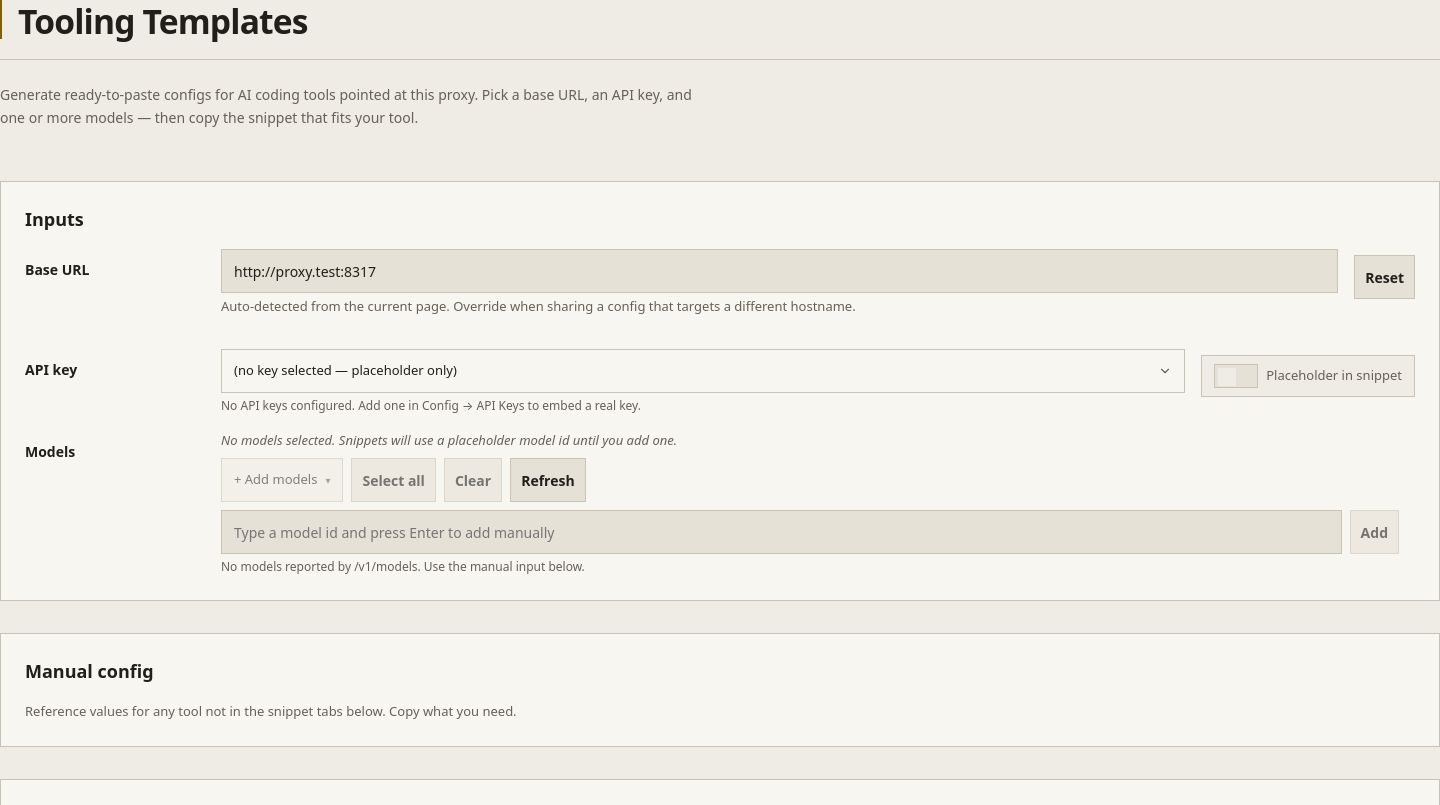
it: ToolingTemplatesPage manual model entry › adds a manually typed model as a chip
Check: the text "No models selected." is shown, box [221,430,677,448]
Type "custom-model" into the field with placeholder "Type a model id and press Enter to add manually". click: x=781, y=532
box: [221,510,1342,554]
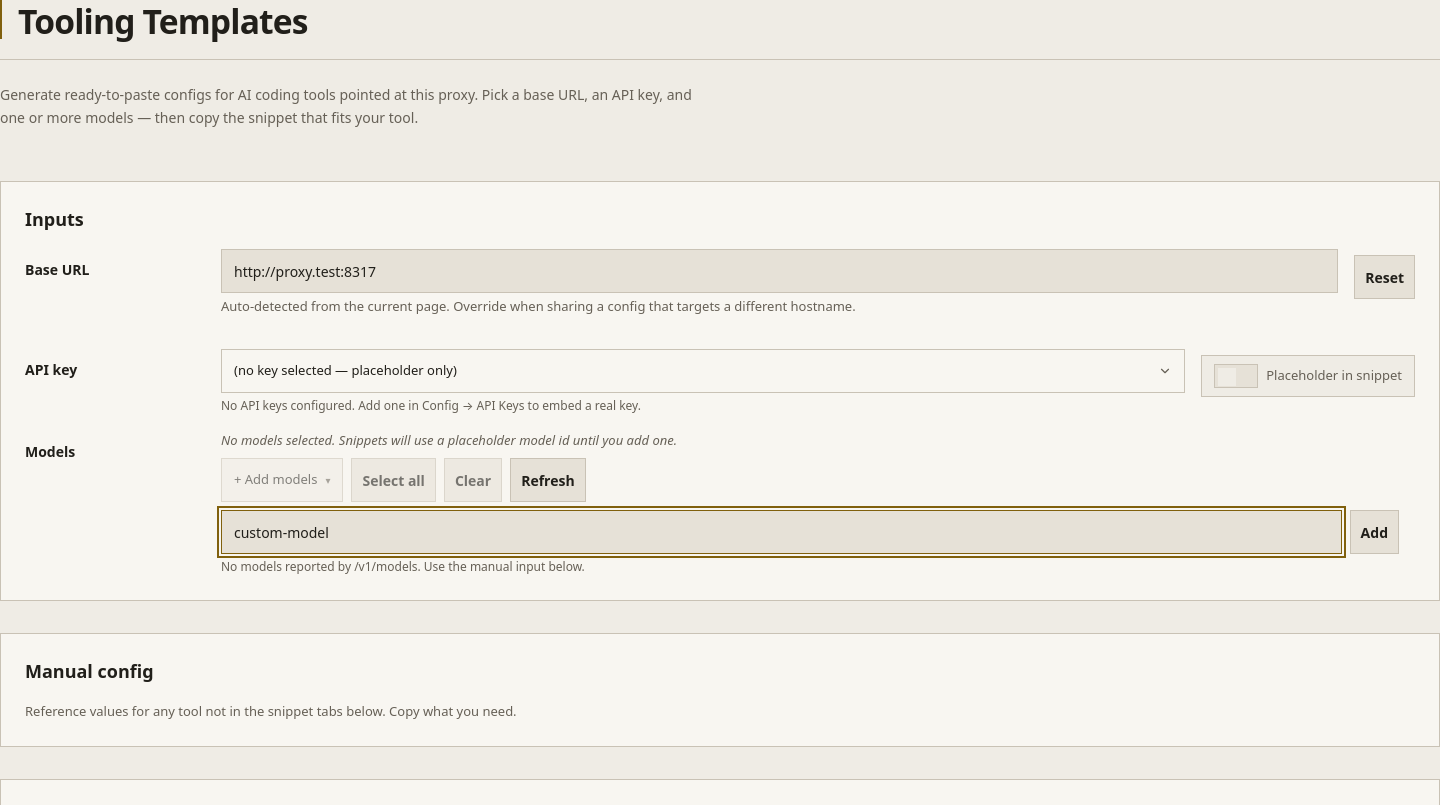
Click the button "Add". click: x=1374, y=532
box: [1350,510,1399,554]
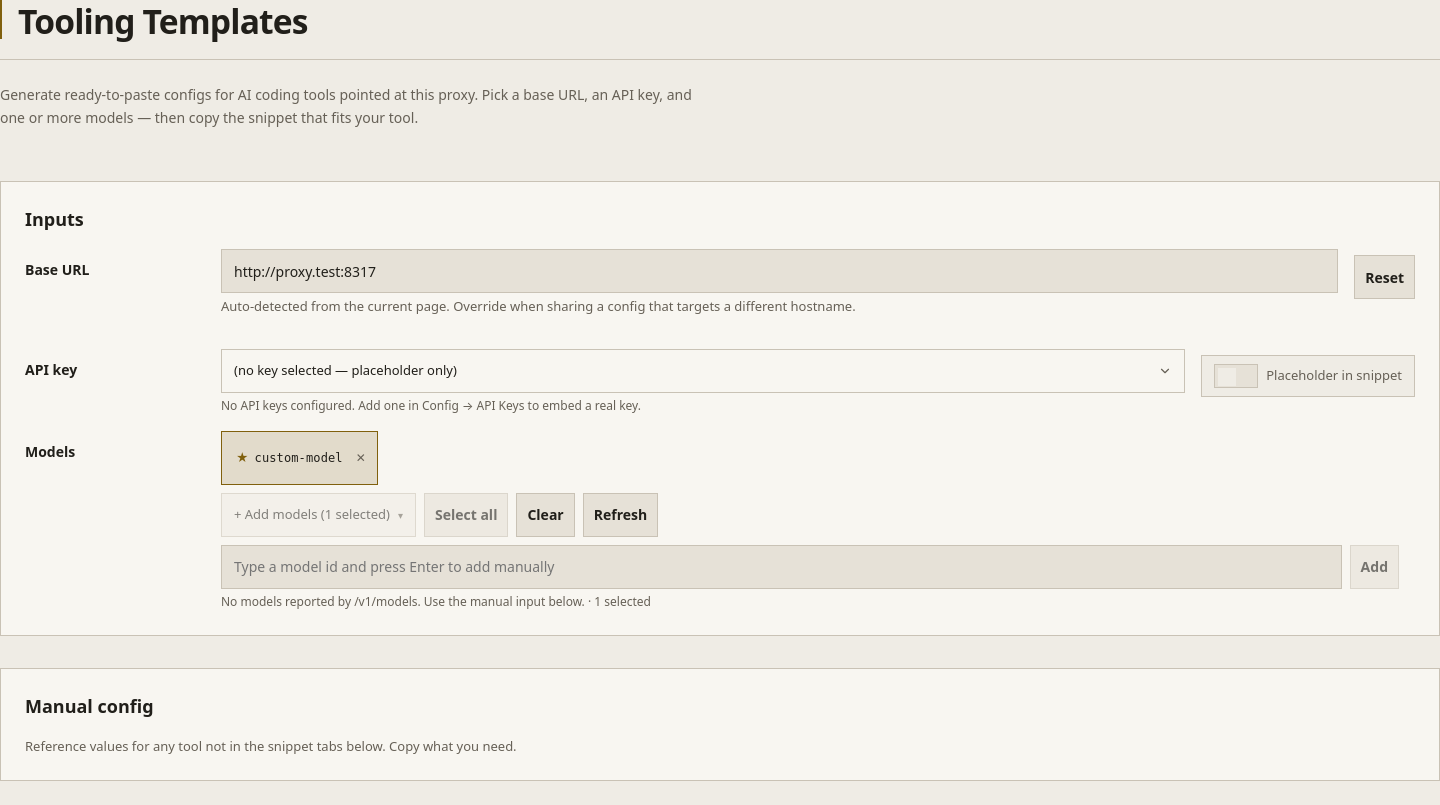
Check: the text "custom-model" is shown, box [254,448,343,466]
